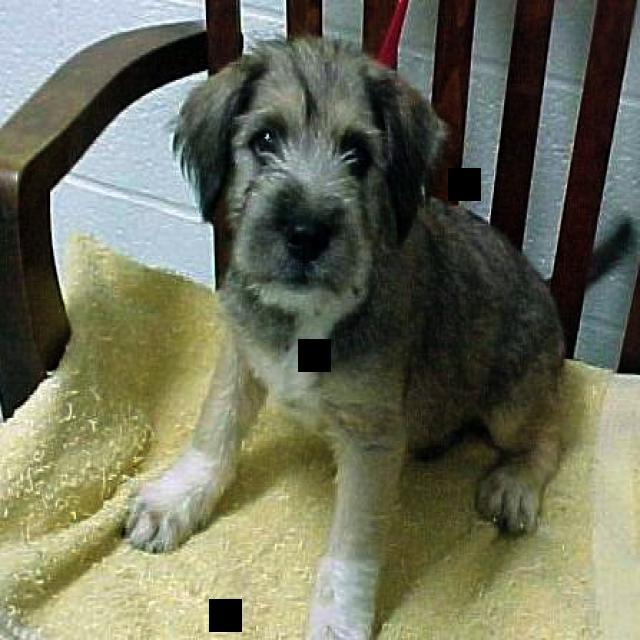puppy-dog: (124, 37, 635, 640)
